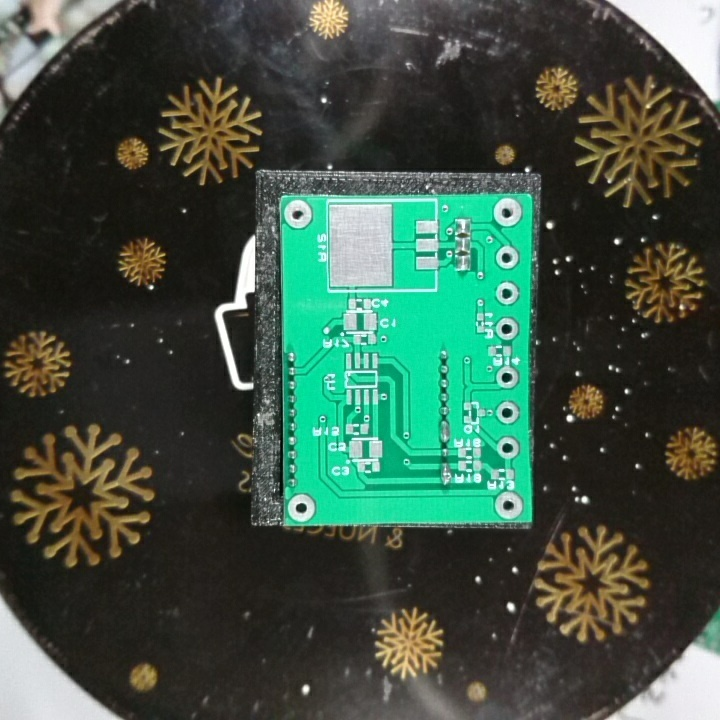F: (282, 198, 315, 232), (492, 195, 524, 228), (494, 489, 526, 521), (287, 491, 316, 524), (492, 398, 521, 427), (494, 243, 522, 272), (494, 316, 521, 343), (496, 433, 521, 462), (494, 281, 520, 305), (497, 364, 520, 391)
P: (439, 459, 454, 489), (438, 418, 452, 447)
